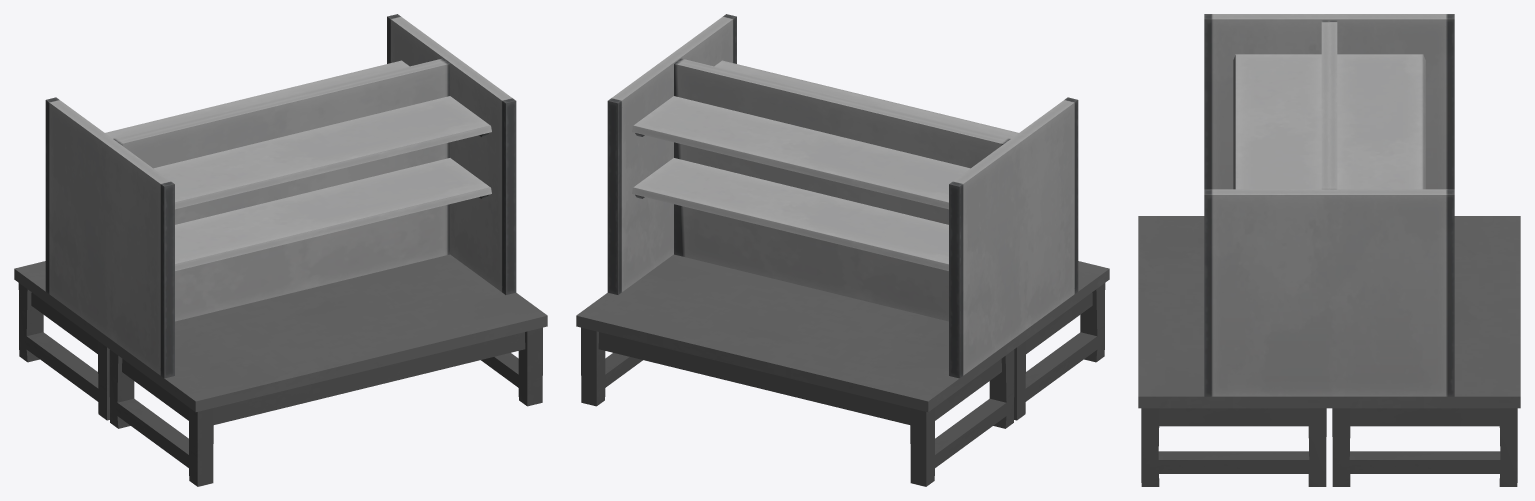
The model's file is Pfb_Table_03_1_JLAB_Temp.fbx.
3 renders of one model, left to right at view 1: azimuth 30°, elevation 25°; view 2: azimuth 150°, elevation 25°; view 3: azimuth 270°, elevation 25°, orthographic. The views are drawn at different scales.
Parts seen in each view (by area): view 1: Mat_Shop_Shelf_01_Grey, Mat_Table_02White; view 2: Mat_Shop_Shelf_01_Grey, Mat_Table_02White; view 3: Mat_Shop_Shelf_01_Grey, Mat_Table_02White.
Boxes of the visible parts, x1,y1,x2,y2 form: Mat_Shop_Shelf_01_Grey: (45,14,516,378); Mat_Table_02White: (14,254,547,486); Mat_Shop_Shelf_01_Grey: (607,14,1078,378); Mat_Table_02White: (576,254,1109,486); Mat_Shop_Shelf_01_Grey: (1204,14,1454,396); Mat_Table_02White: (1138,216,1520,486).
Bounding box in the file's own units: 2.78 × 2.1 × 2.48.
2 materials, 2 textured.
